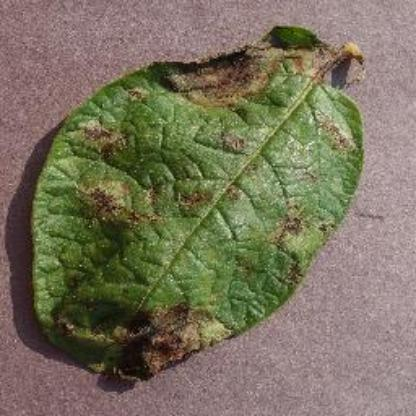Late-Blight: (18, 21, 380, 396)
